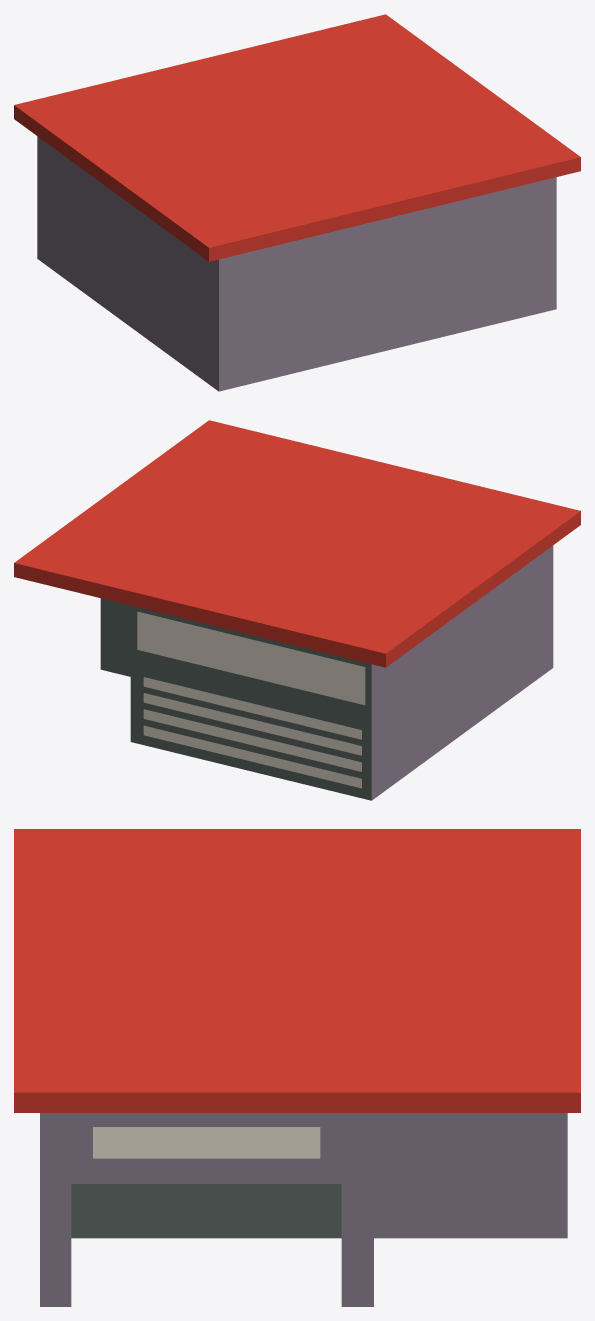
The model's file is Garage.fbx.
The picture shows the model from 3 angles, top to bottom: view 1: azimuth 30°, elevation 25°; view 2: azimuth 150°, elevation 25°; view 3: azimuth 270°, elevation 25°; orthographic projection. The views are drawn at different scales.
Visible parts, largest first — view 1: Garage; view 2: Garage; view 3: Garage.
Part boxes in pixels (x1,y1,x2,y2): Garage: (14, 14, 580, 391); Garage: (14, 420, 580, 800); Garage: (14, 829, 580, 1306).
Bounding box in the file's own units: 192 × 76.43 × 174.
